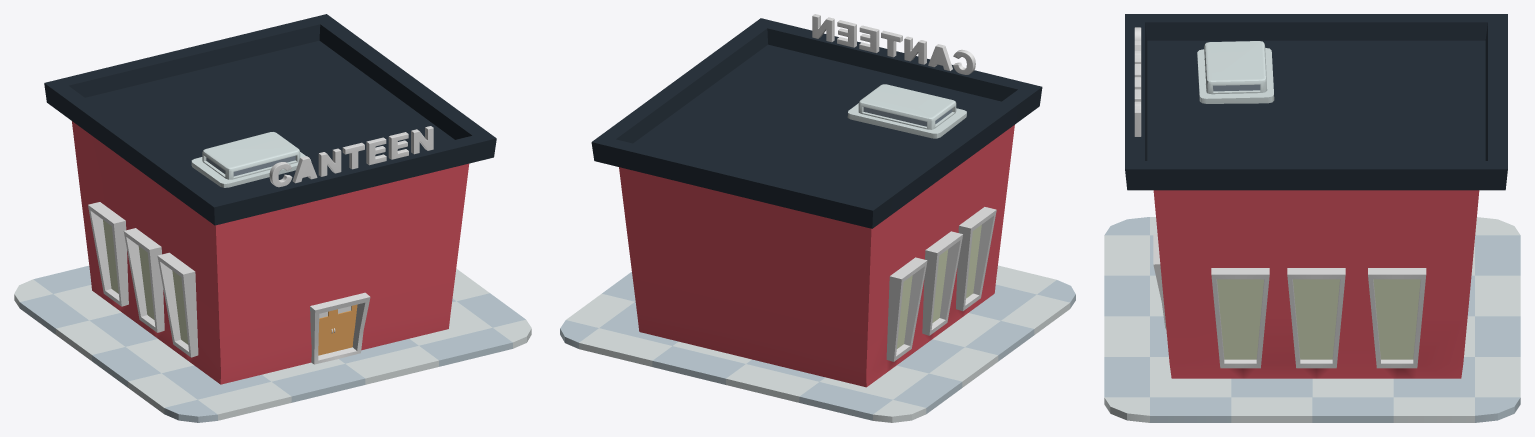
The model's file is canteen.fbx.
The picture shows the model from 3 angles, left to right: view 1: azimuth 30°, elevation 25°; view 2: azimuth 150°, elevation 25°; view 3: azimuth 270°, elevation 25°; orthographic projection. The views are drawn at different scales.
Visible parts, largest first — view 1: canteen_building, floor, Canteen, pCube29, pTorus3; view 2: canteen_building, floor, Canteen; view 3: canteen_building, floor, Canteen.
Boxes of the visible parts, left/top/right/bottom form: canteen_building: left=44, top=14, right=496, bottom=384; floor: left=14, top=265, right=531, bottom=422; Canteen: left=269, top=126, right=433, bottom=187; pCube29: left=333, top=304, right=357, bottom=351; pTorus3: left=318, top=310, right=333, bottom=355; canteen_building: left=591, top=18, right=1042, bottom=387; floor: left=560, top=265, right=1075, bottom=422; Canteen: left=812, top=14, right=975, bottom=74; canteen_building: left=1125, top=14, right=1507, bottom=378; floor: left=1104, top=217, right=1520, bottom=422; Canteen: left=1134, top=27, right=1141, bottom=136.
Size of the model in its own units: 2323 by 1396 by 2054.
